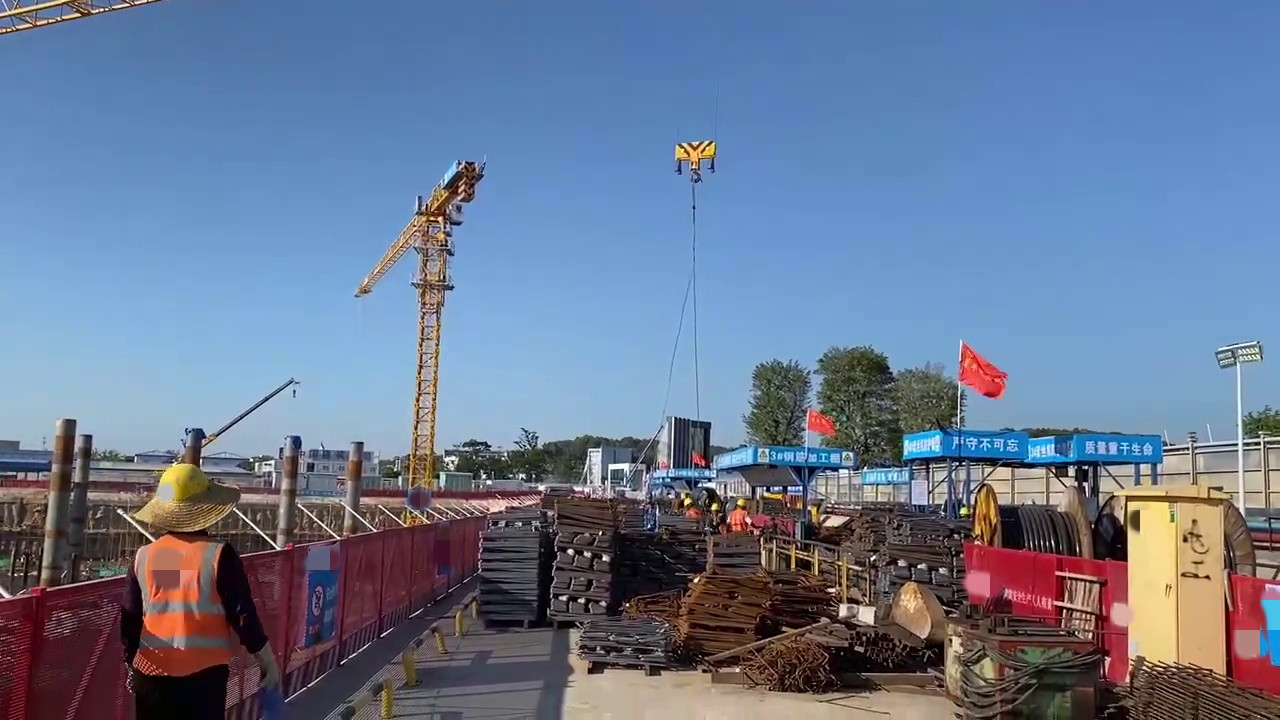ebox: (1122, 481, 1230, 668)
fence: (278, 507, 478, 667)
helmet: (153, 462, 206, 496)
hook: (675, 137, 719, 173)
person: (125, 464, 263, 720), (730, 498, 749, 534)
rebar: (1116, 657, 1280, 716), (550, 489, 619, 629), (678, 564, 762, 666), (486, 514, 556, 626), (864, 510, 917, 618), (756, 629, 830, 693), (848, 620, 928, 672)
slogan: (944, 431, 1030, 457), (1075, 435, 1159, 460), (1002, 584, 1050, 613)
vest: (138, 531, 247, 678), (730, 507, 750, 534)
